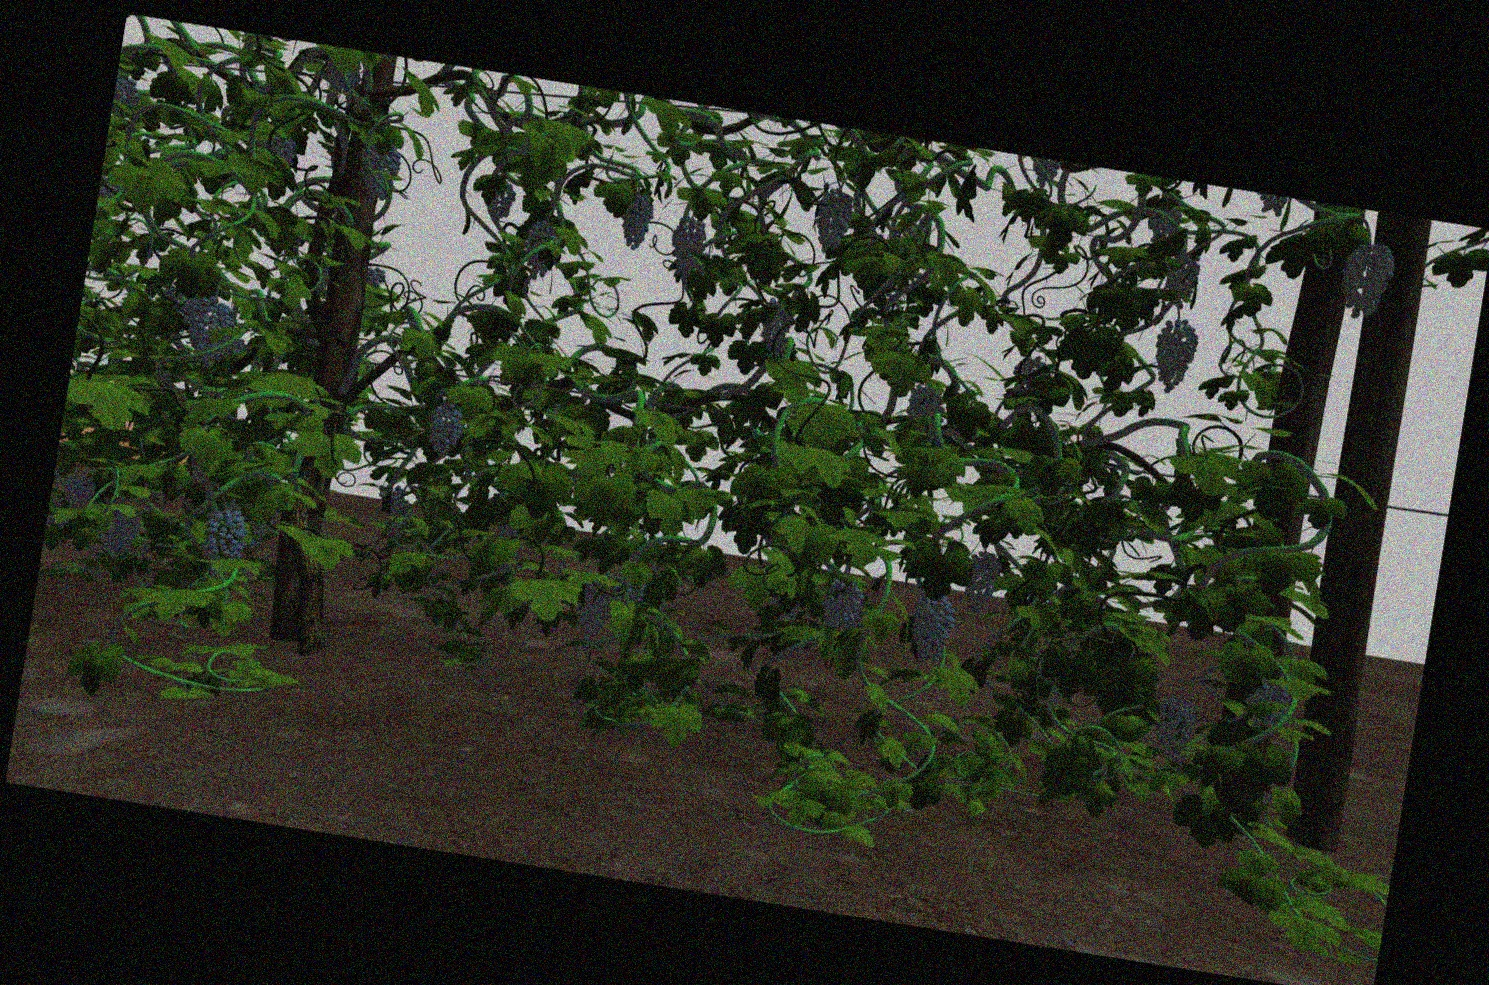grape: (1342, 240, 1392, 318), (1153, 317, 1198, 397), (913, 591, 956, 669), (185, 295, 232, 363), (1158, 696, 1197, 763), (966, 551, 1005, 616), (823, 575, 865, 635), (573, 579, 610, 644), (97, 509, 143, 560), (814, 191, 854, 250), (202, 509, 246, 560), (358, 146, 400, 198), (427, 403, 466, 457), (524, 223, 559, 278), (670, 215, 708, 266), (376, 486, 411, 539), (623, 192, 655, 250), (762, 301, 791, 351), (62, 471, 95, 514), (1168, 258, 1199, 302), (908, 386, 943, 417), (489, 180, 514, 222), (366, 265, 386, 289)
